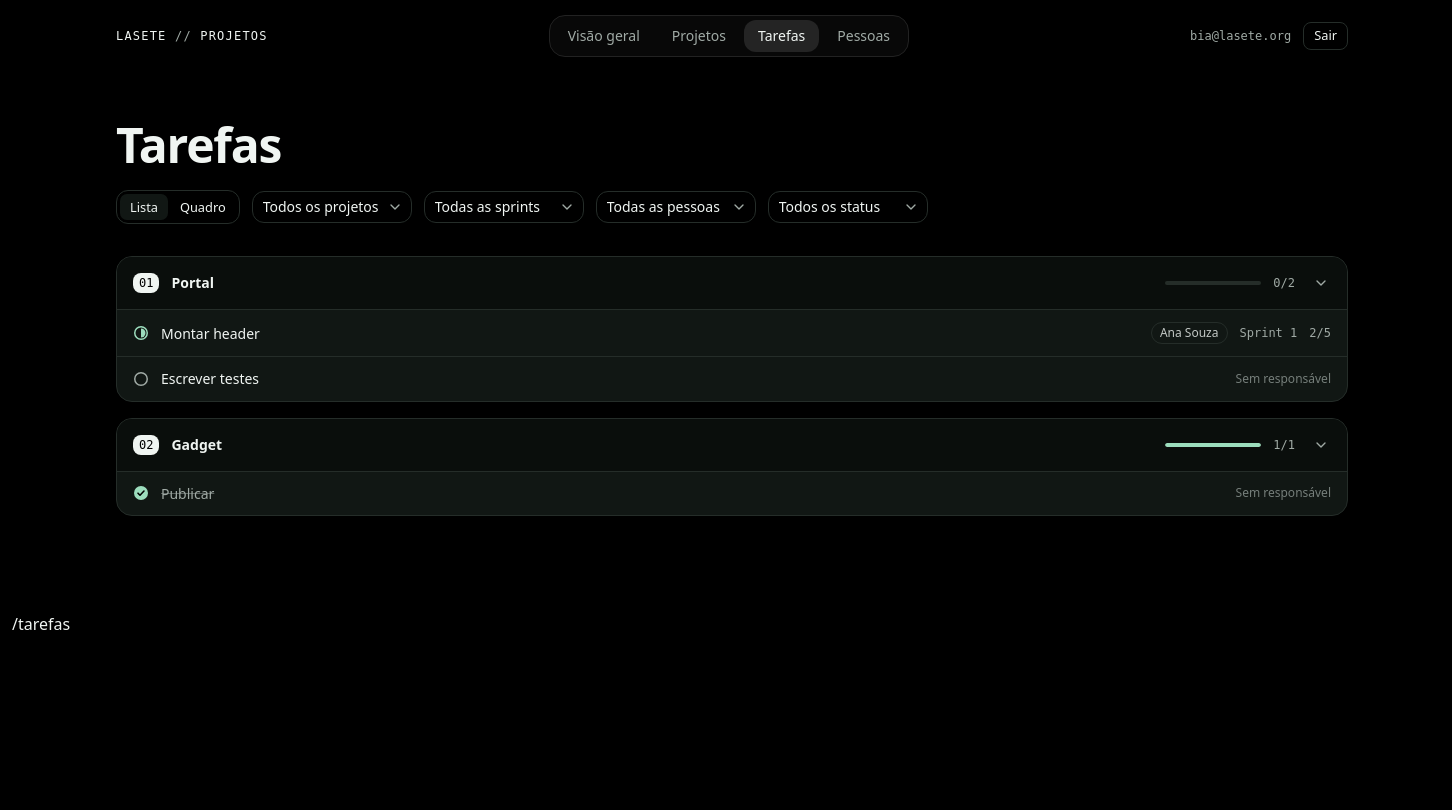
Test case: Tarefas › alternar para Quadro mostra as colunas com as tarefas certas
Click the button "Quadro": click(203, 207) 169,193 -> 237,221
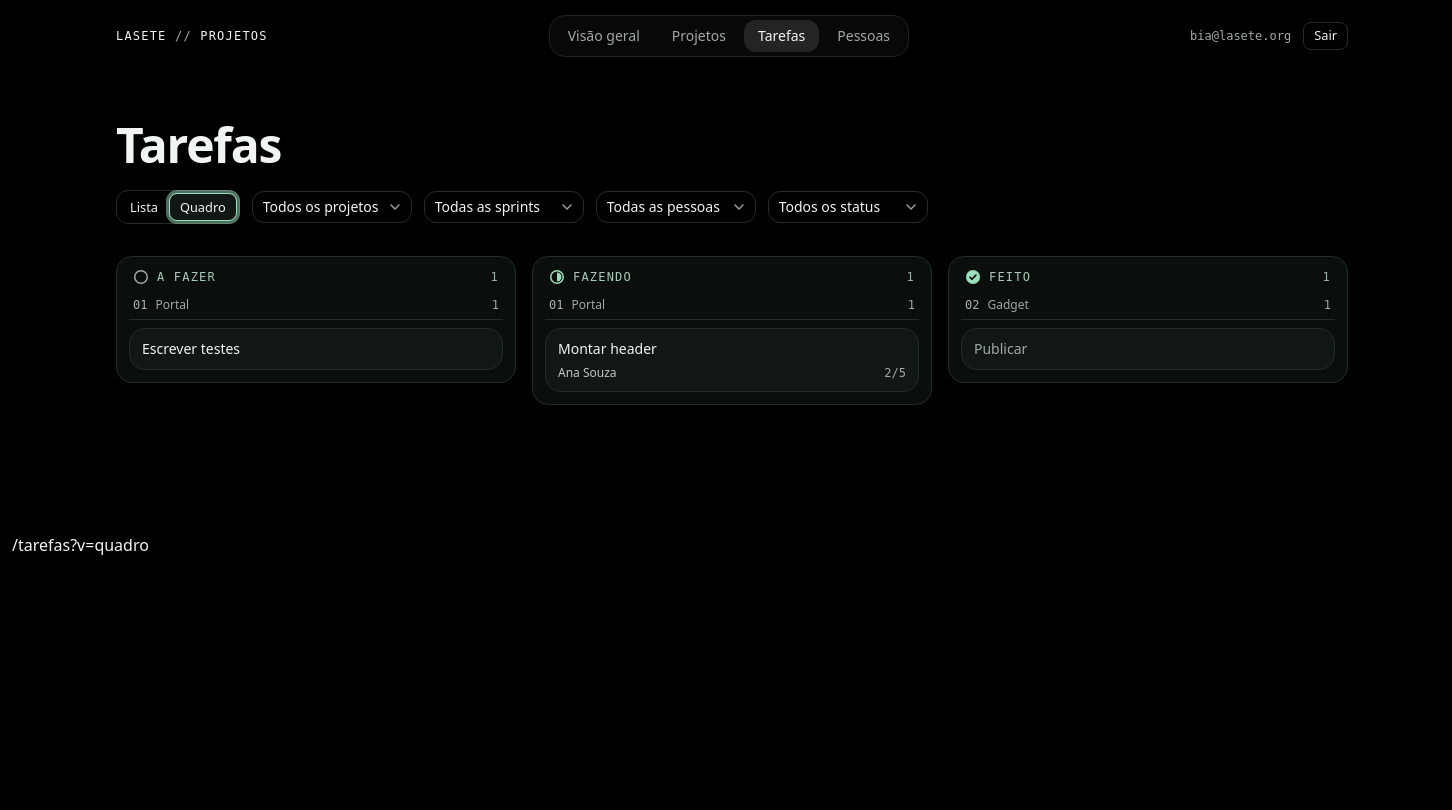
Result: the text with test id "where" reads "/tarefas?v=quadro" at 12,534 -> 149,556
Result: the text "Escrever testes" is shown at 142,339 -> 240,358
Result: the text "Montar header" is shown at 558,339 -> 657,358
Click the button "Lista": click(144, 207) 119,193 -> 169,221
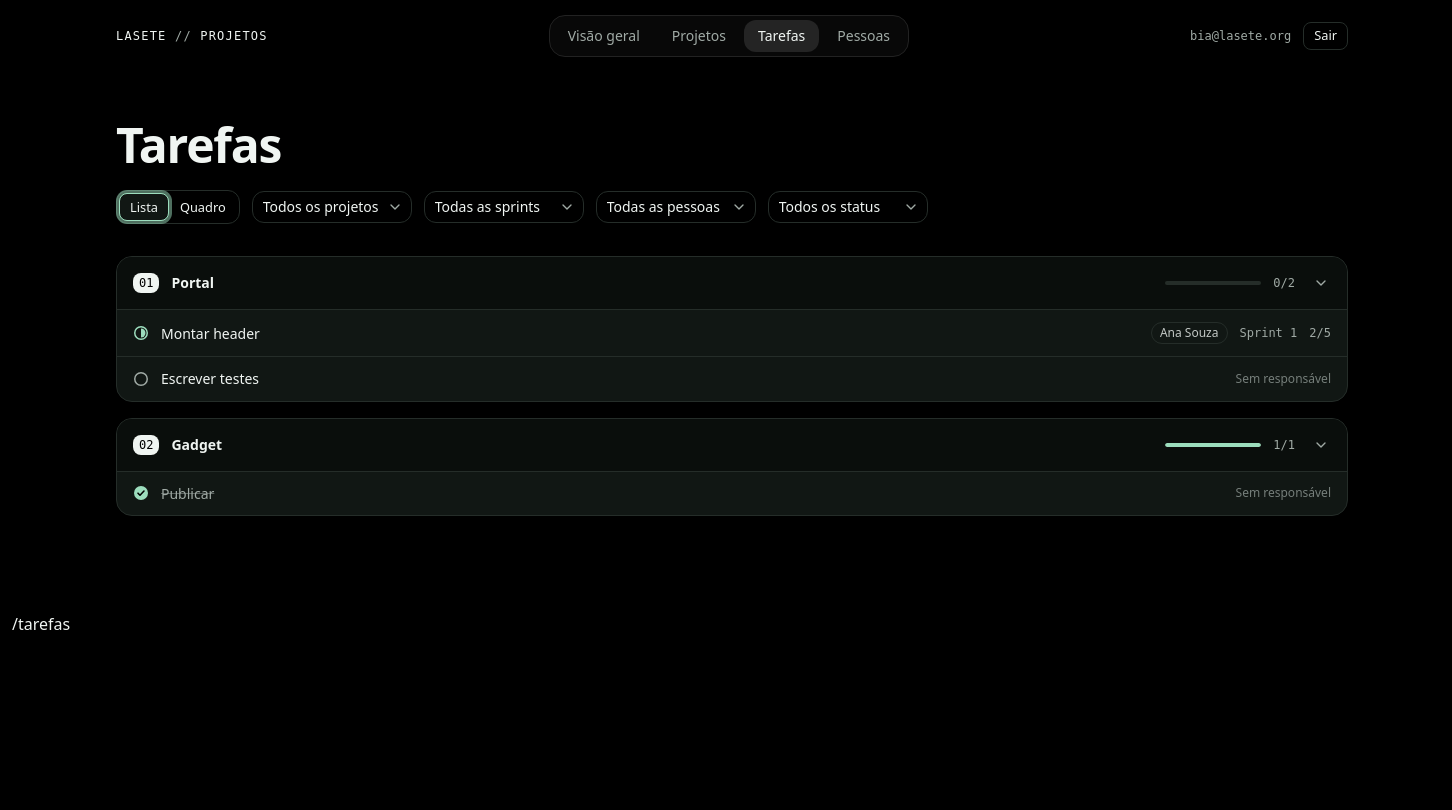
Result: the text with test id "where" reads "/tarefas" at 12,613 -> 70,635
